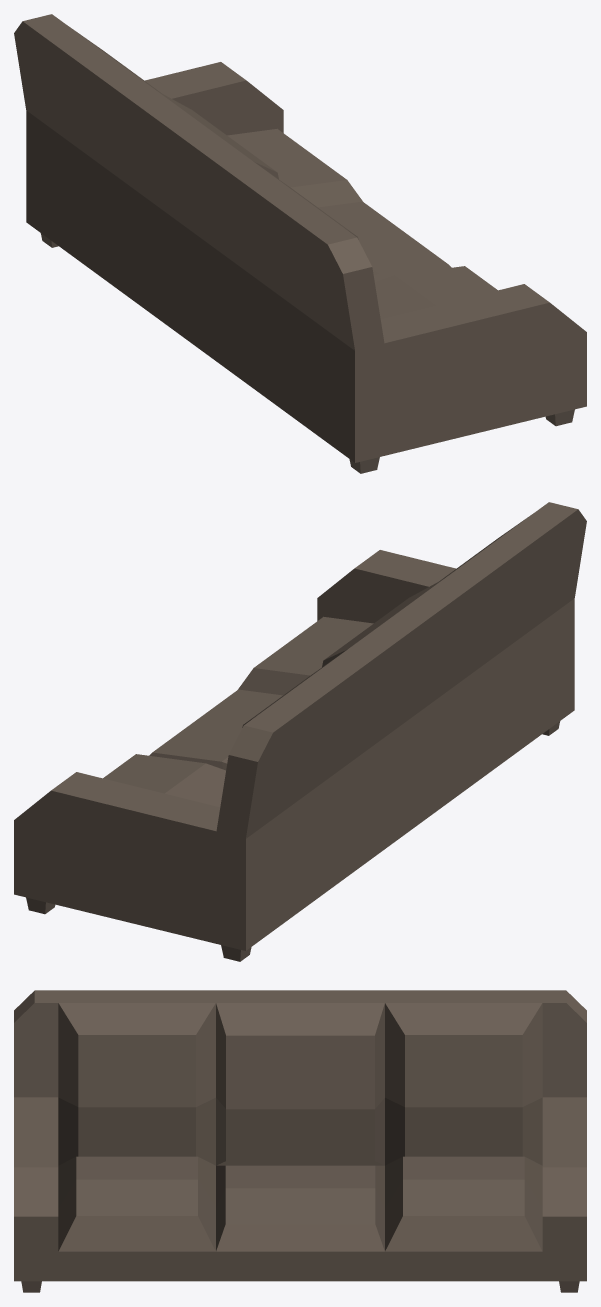
File: Sofa.fbx
The picture shows the model from 3 angles, top to bottom: view 1: azimuth 30°, elevation 25°; view 2: azimuth 150°, elevation 25°; view 3: azimuth 270°, elevation 25°; orthographic projection. The views are drawn at different scales.
Visible parts, largest first — view 1: Sofa; view 2: Sofa; view 3: Sofa.
Boxes of the visible parts, box(x1,y1,x2,y2) form: Sofa: box(14, 14, 586, 473); Sofa: box(14, 502, 586, 961); Sofa: box(14, 990, 586, 1292).
Size of the model in its own units: 0.4944 by 0.4411 by 1.14.
